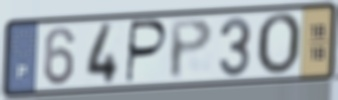3: (217, 15, 252, 79)
4: (84, 20, 121, 87)
6: (41, 25, 78, 88)
O: (255, 11, 304, 78)
P: (123, 18, 170, 86), (168, 16, 215, 82)
